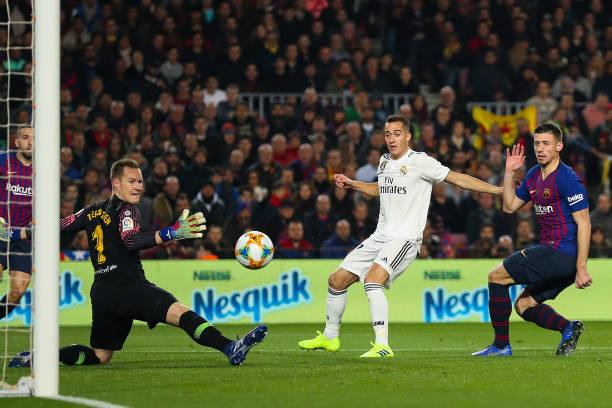Goalkeeper: (8, 159, 268, 369)
Player: (300, 115, 502, 357), (475, 122, 592, 356), (0, 126, 33, 319)
ball: (234, 231, 274, 270)
